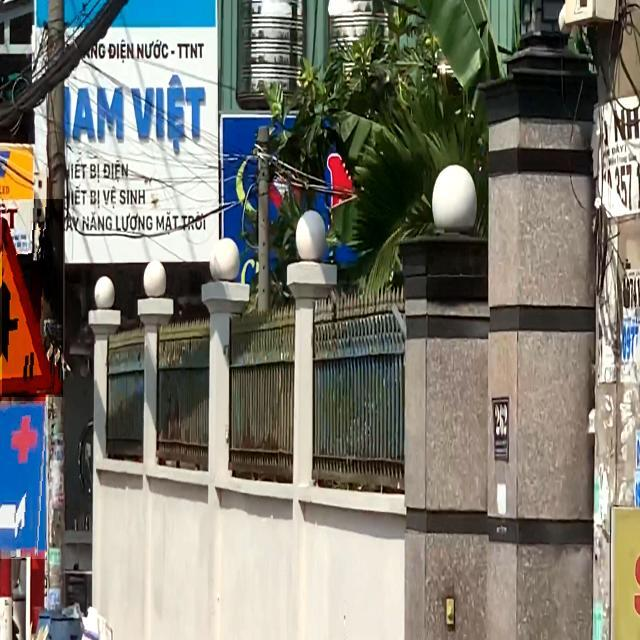R-425: (0, 401, 48, 559)
W-207b: (2, 199, 63, 397)
